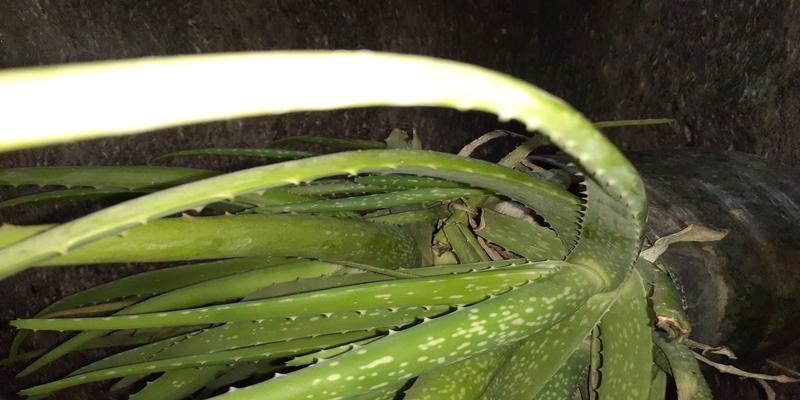Aloevera: (61, 87, 676, 392)
